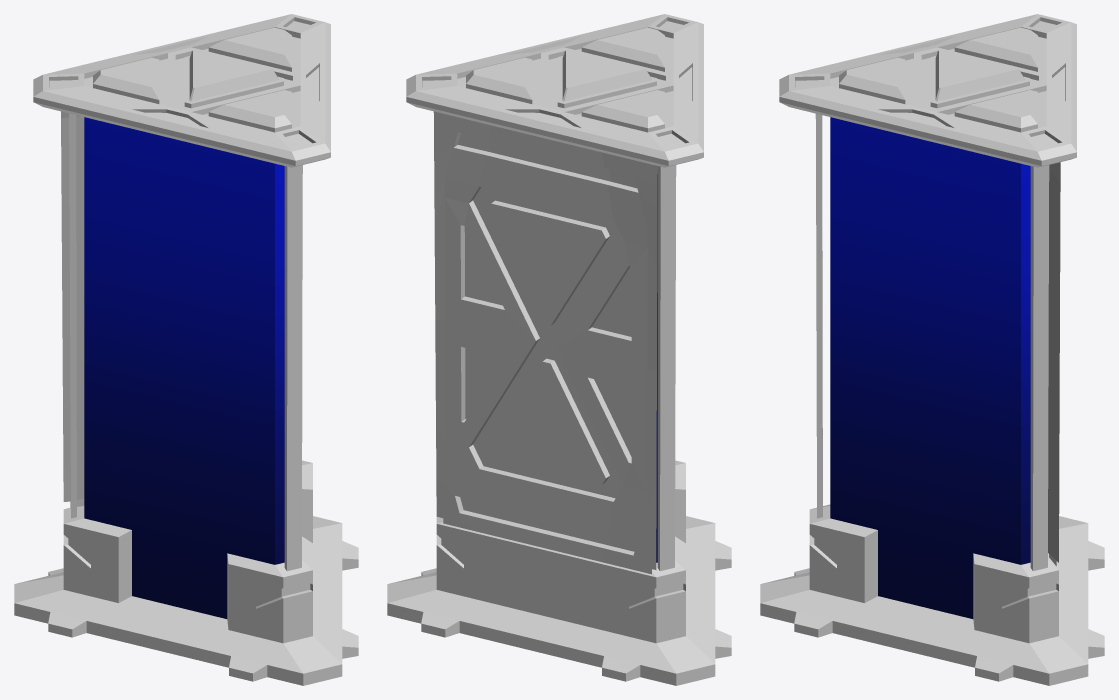
The model's file is Triangle_Capsule.fbx.
3 views of the same model, side by side, from view 1: azimuth 30°, elevation 25°; view 2: azimuth 150°, elevation 25°; view 3: azimuth 270°, elevation 25° (orthographic).
Parts seen in each view (by area): view 1: Triangle Container; view 2: Triangle Container; view 3: Triangle Container.
Boxes of the visible parts, <box> form: Triangle Container: <box>14,14,358,685</box>; Triangle Container: <box>387,14,731,685</box>; Triangle Container: <box>760,14,1104,685</box>.
Size of the model in its own units: 3.29 by 5.15 by 2.99.
2 materials, 1 textured.
